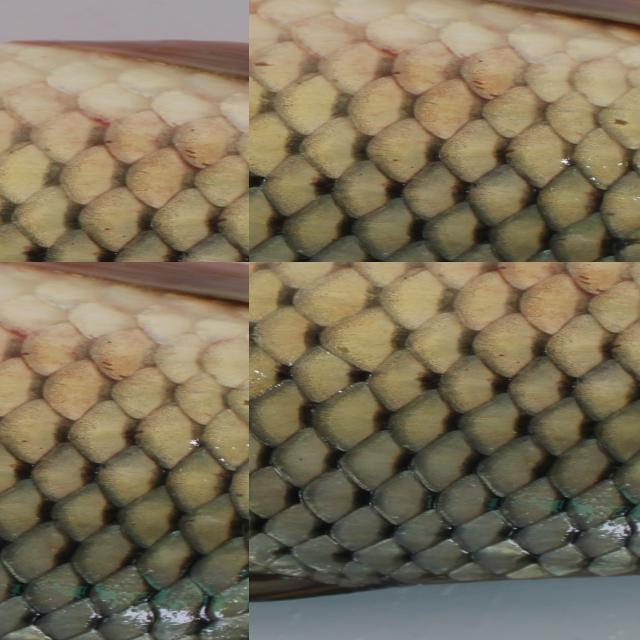fish: (249, 262, 640, 640)
